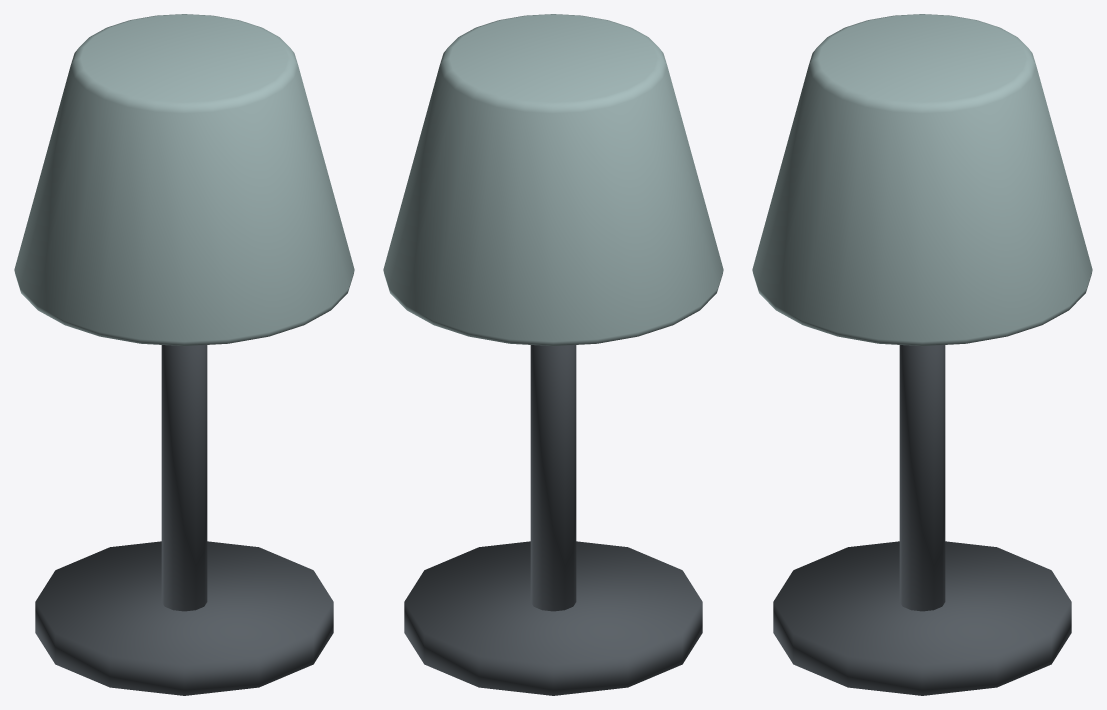
File: atelier-table-lamp.glb
3 renders of one model, left to right at view 1: azimuth 30°, elevation 25°; view 2: azimuth 150°, elevation 25°; view 3: azimuth 270°, elevation 25°, orthographic.
Visible parts, largest first — view 1: fabric.059, metal.066; view 2: fabric.059, metal.066; view 3: fabric.059, metal.066.
Boxes of the visible parts, x1=… form: fabric.059: x1=14, y1=14, x2=354, y2=346; metal.066: x1=35, y1=345, x2=333, y2=695; fabric.059: x1=383, y1=14, x2=723, y2=346; metal.066: x1=404, y1=345, x2=702, y2=695; fabric.059: x1=752, y1=14, x2=1092, y2=346; metal.066: x1=773, y1=345, x2=1071, y2=695.
Size of the model in its own units: 0.2966 by 0.5525 by 0.2966.
